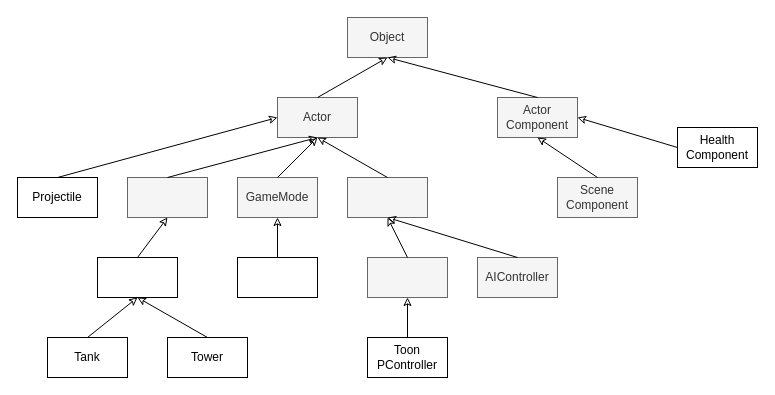
Some shapes in this 775 by 395 pixel diagram are drawn without their labels. Here are the shapes that lost their labels. From the top down, the box of each, then its label:
(126, 176, 208, 218): Pawn
(346, 176, 428, 218): Controller
(96, 256, 178, 298): BasePawn
(236, 256, 318, 298): Toon GameMode
(366, 256, 448, 298): Player Controller
